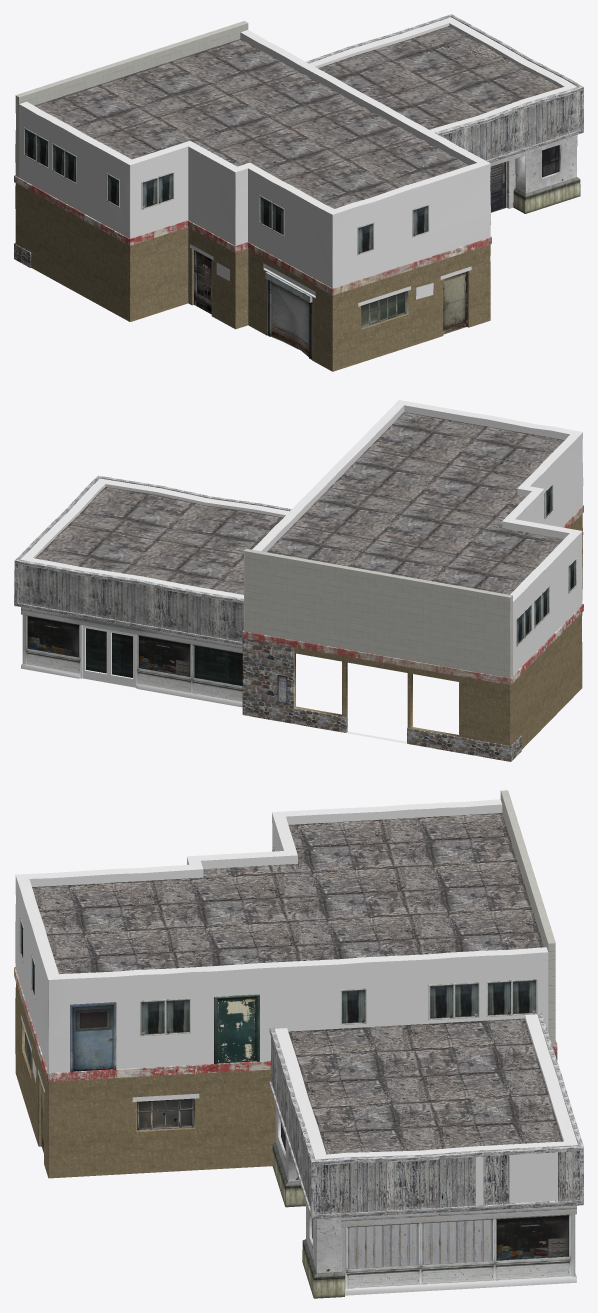
Rendered from cs6_01_247_market.glb.
The picture shows the model from 3 angles, top to bottom: view 1: azimuth 30°, elevation 25°; view 2: azimuth 150°, elevation 25°; view 3: azimuth 270°, elevation 25°; orthographic projection. The views are drawn at different scales.
Parts seen in each view (by area): view 1: cs6_01_247_market.model; view 2: cs6_01_247_market.model; view 3: cs6_01_247_market.model.
Boxes of the visible parts, x1,y1,x2,y2 form: cs6_01_247_market.model: [14, 14, 583, 371]; cs6_01_247_market.model: [14, 400, 583, 761]; cs6_01_247_market.model: [14, 790, 583, 1298].
Size of the model in its own units: 23.25 by 7.4 by 18.46.
Materials: 33 (33 with a texture image).
